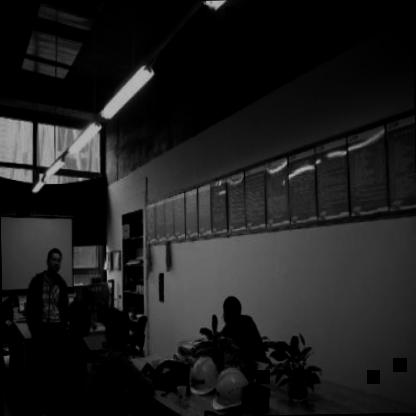head: (100, 302, 132, 358), (66, 293, 92, 336), (219, 291, 242, 327), (46, 244, 64, 274), (2, 290, 21, 311)
